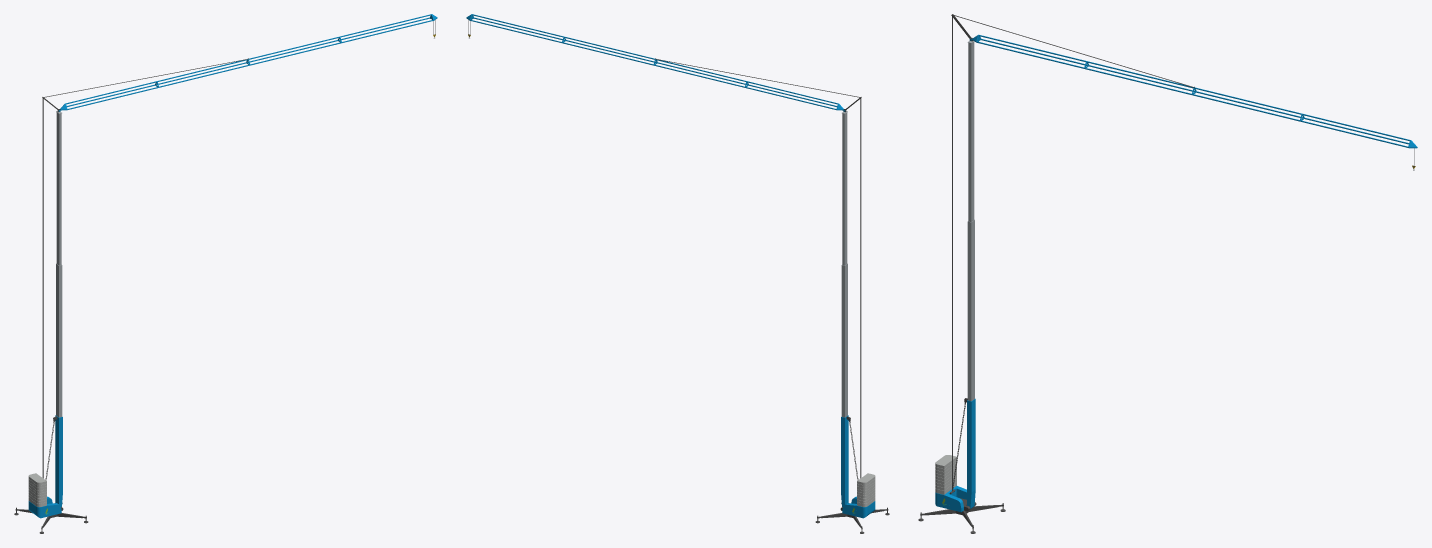
Rendered from H-TDK-UD-30m_dae.dae.
The picture shows the model from 3 angles, left to right: view 1: azimuth 30°, elevation 25°; view 2: azimuth 150°, elevation 25°; view 3: azimuth 330°, elevation 25°; orthographic projection. The views are drawn at different scales.
Visible parts, largest first — view 1: 2fl92Gvkb1ZgrKn5jgXywz; view 2: 2fl92Gvkb1ZgrKn5jgXywz; view 3: 2fl92Gvkb1ZgrKn5jgXywz.
Part boxes in pixels (<box>): 2fl92Gvkb1ZgrKn5jgXywz: <box>14,14,437,533</box>; 2fl92Gvkb1ZgrKn5jgXywz: <box>466,14,889,533</box>; 2fl92Gvkb1ZgrKn5jgXywz: <box>918,14,1417,533</box>.
Size of the model in its own units: 32.52 by 3.8 by 32.07.
